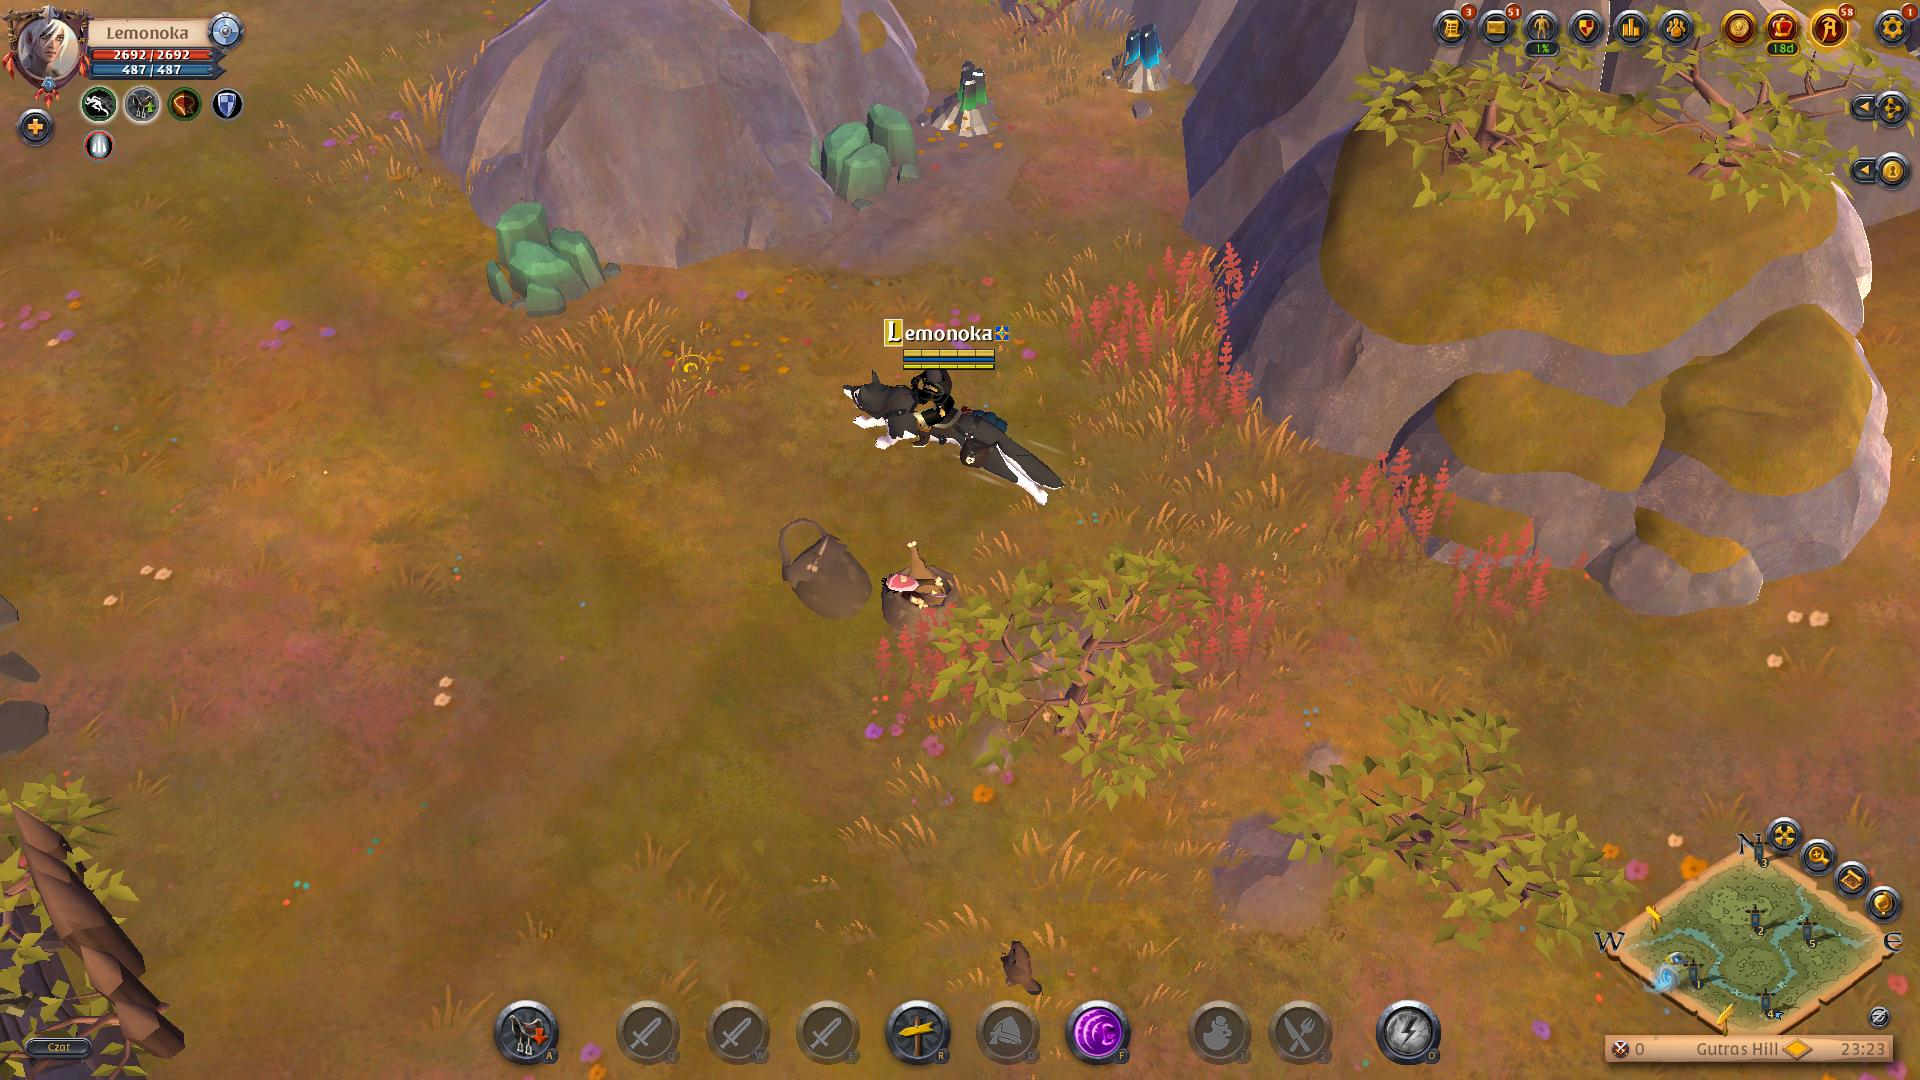ore tier 3: (924, 58, 1009, 145)
ore tier 4: (1100, 20, 1183, 100)
rock tier 3: (475, 195, 625, 323), (802, 96, 930, 212)
